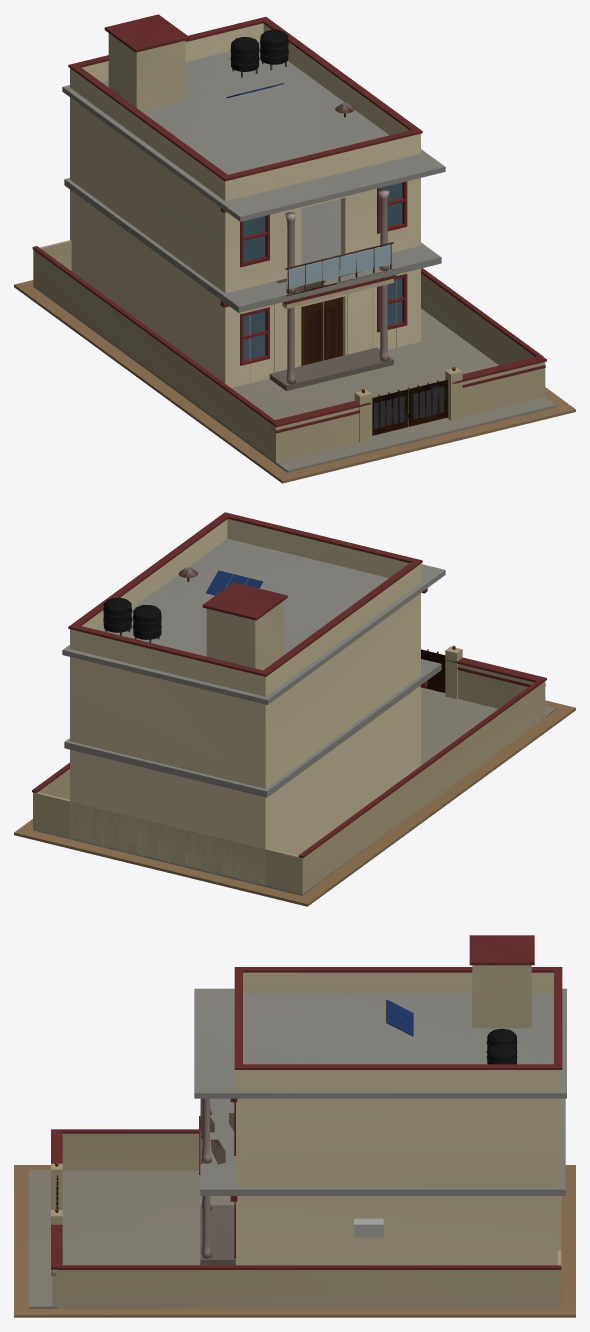
Rendered from house_kit_g.glb.
3 views of the same model, one above another, from view 1: azimuth 30°, elevation 25°; view 2: azimuth 150°, elevation 25°; view 3: azimuth 270°, elevation 25° (orthographic). The views are drawn at different scales.
Visible parts, largest first — view 1: hb_main, hb_metal, hb_props; view 2: hb_main, hb_metal; view 3: hb_main, hb_metal.
Boxes of the visible parts, x1,y1,x2,y2 form: hb_main: (14, 14, 575, 483); hb_metal: (276, 102, 455, 435); hb_props: (301, 297, 342, 365); hb_main: (14, 512, 575, 906); hb_metal: (178, 567, 455, 692); hb_main: (14, 935, 575, 1317); hb_metal: (55, 1098, 234, 1212).
Bounding box in the file's own units: 12 × 10.03 × 19.
